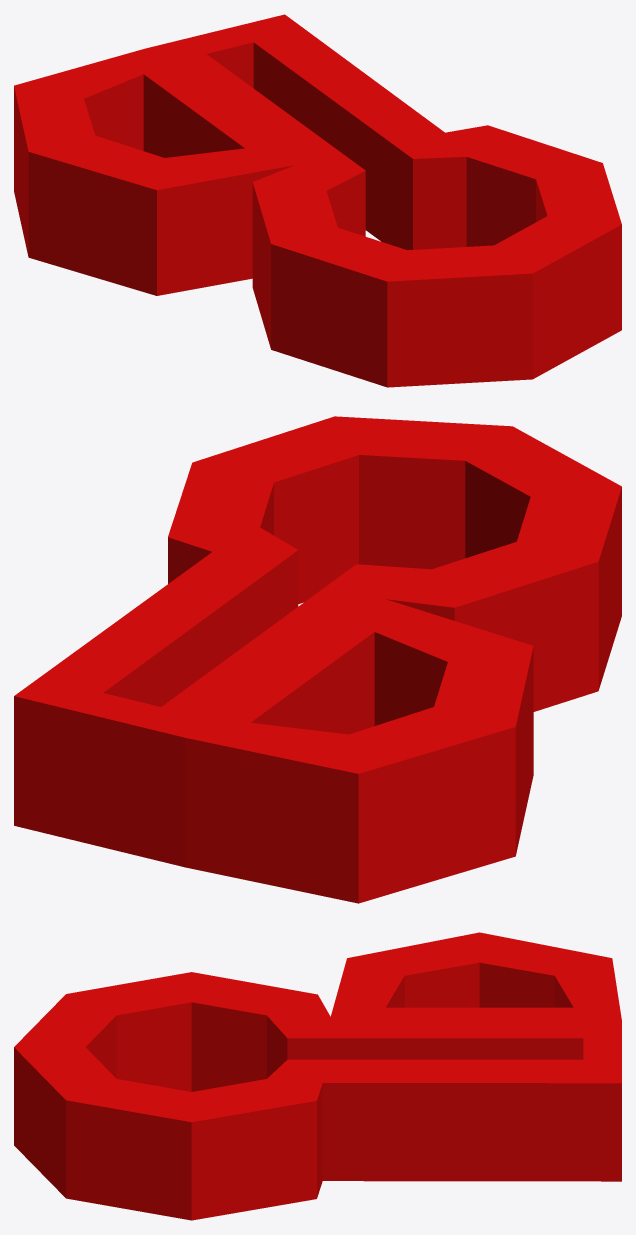
File: Asset_KeyFragment3.glb
3 views of the same model, one above another, from view 1: azimuth 30°, elevation 25°; view 2: azimuth 150°, elevation 25°; view 3: azimuth 270°, elevation 25° (orthographic). The views are drawn at different scales.
Parts seen in each view (by area): view 1: Asset_KeyFragment3; view 2: Asset_KeyFragment3; view 3: Asset_KeyFragment3.
Part boxes in pixels (x1,y1,x2,y2): Asset_KeyFragment3: (14,14,621,387); Asset_KeyFragment3: (14,416,621,903); Asset_KeyFragment3: (14,932,621,1220).
Size of the model in its own units: 0.2521 by 0.0608 by 0.3411.
